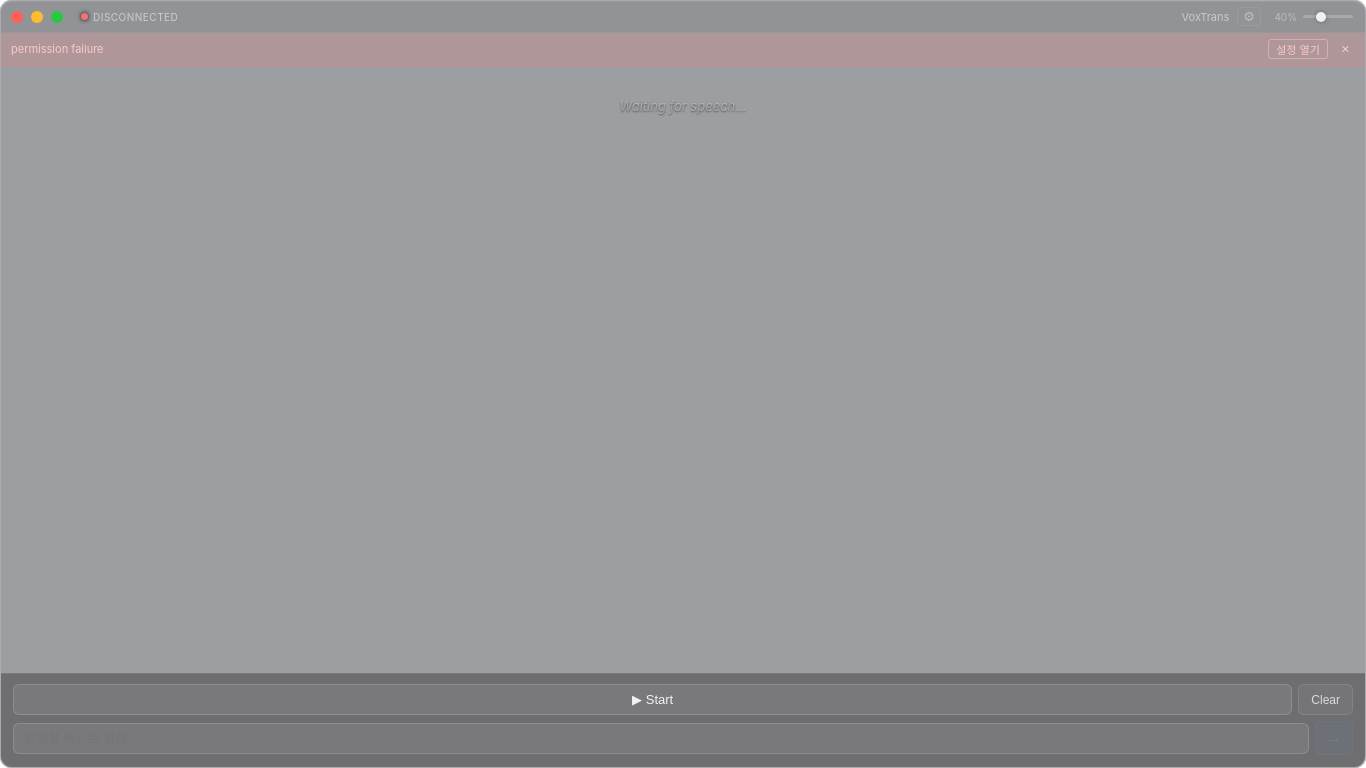
Scenario: permission-error deep-links to System Settings › dismissing the banner clears the remembered permission kind
The image size is (1366, 768).
Expected: the button "설정 열기" is shown, [1268,39,1328,59]
Click the button named "Dismiss error": click(1345, 49) [1336,42,1355,56]
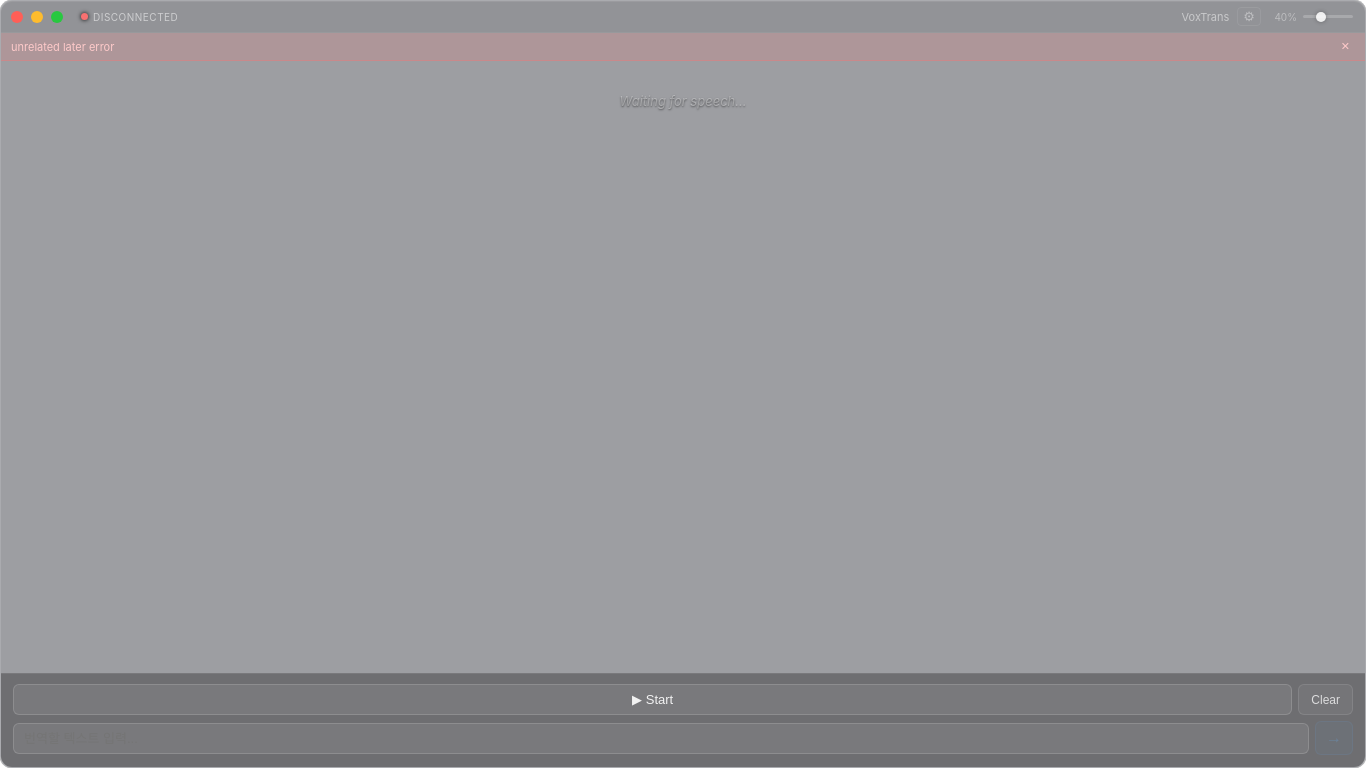
Expected: the message "unrelated later error ✕" is shown, [1,33,1365,61]
Result: the button "설정 열기" is gone
